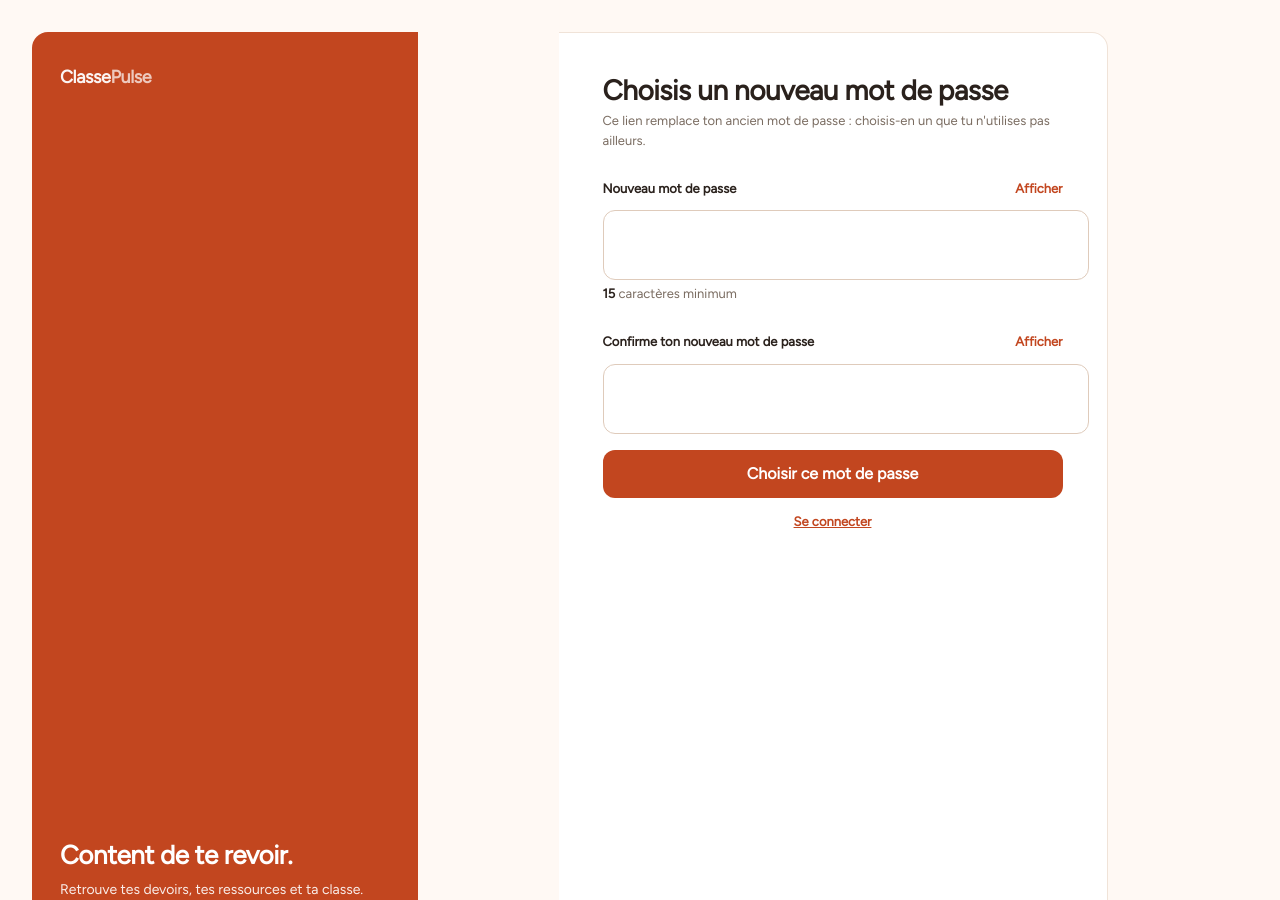
réinitialisation du mot de passe (§ 3.2) › refuse un mot de passe trop court avant tout envoi
The image size is (1280, 900).
Type "court" into the password field labelled "Nouveau mot de passe".
click(846, 245); type("court")  # box [602,210,1088,280]
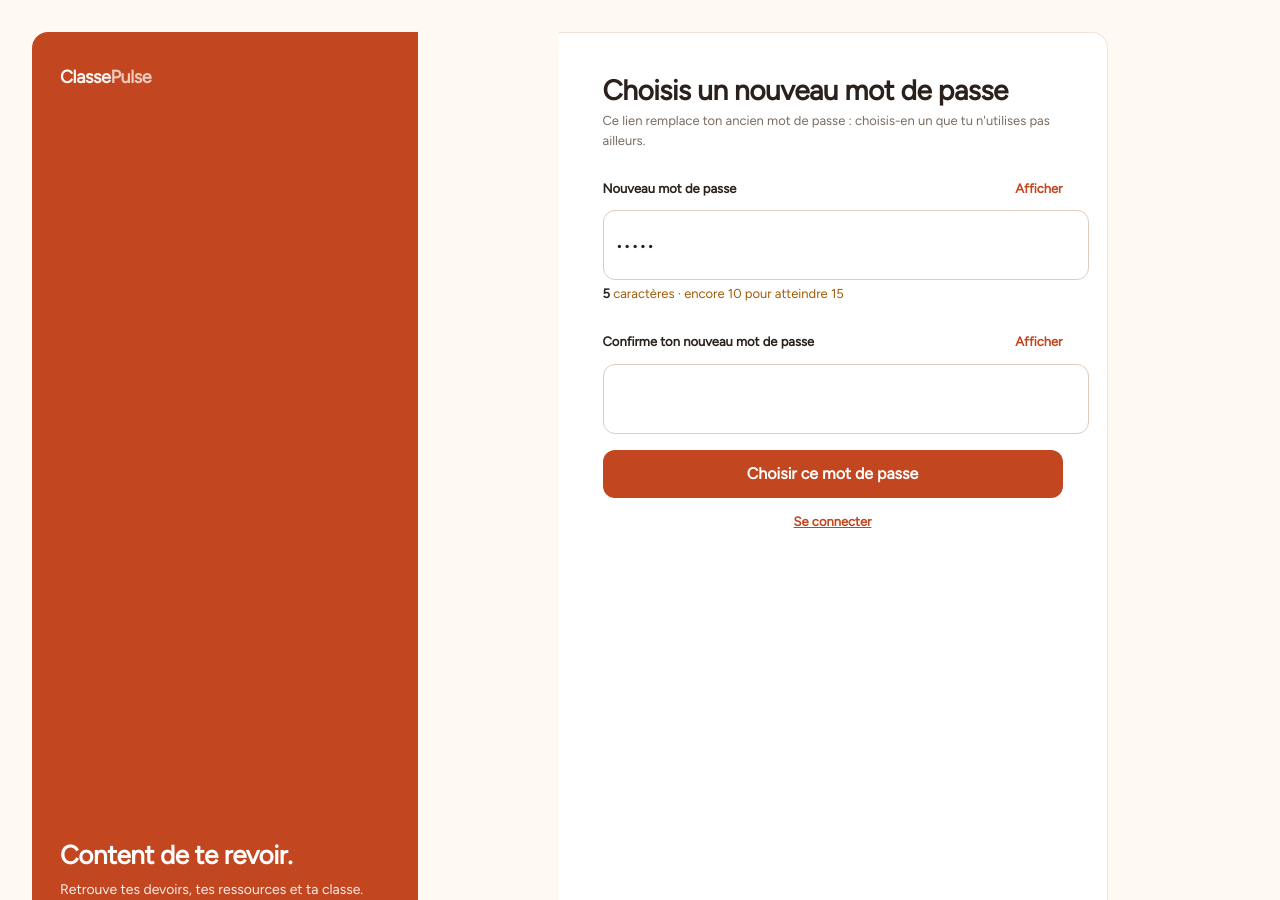
Type "court" into the password field labelled "Confirme ton nouveau mot de passe".
click(846, 398); type("court")  # box [602,364,1088,434]
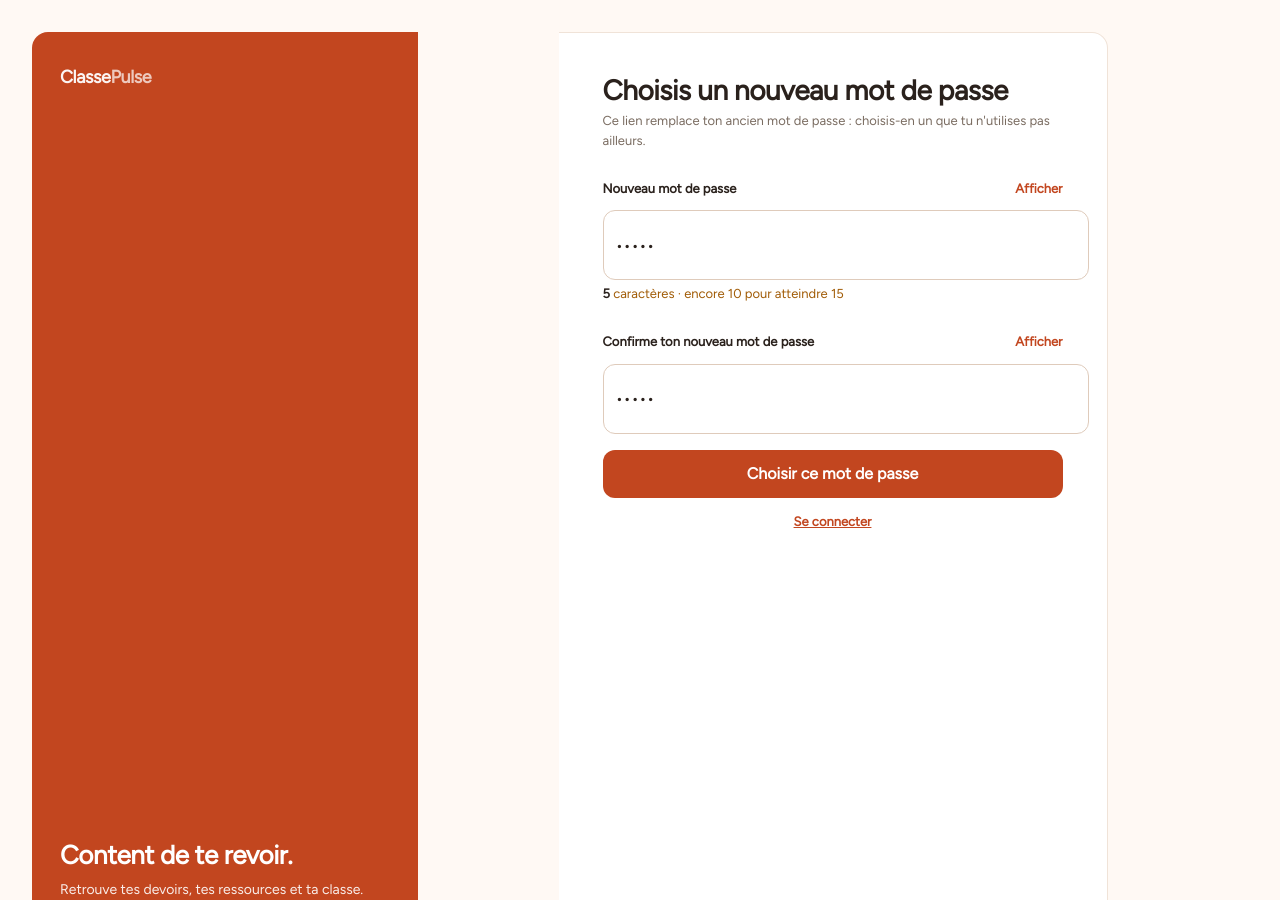
Click the button "Choisir ce mot de passe".
click(832, 474)  # box [602,450,1062,498]
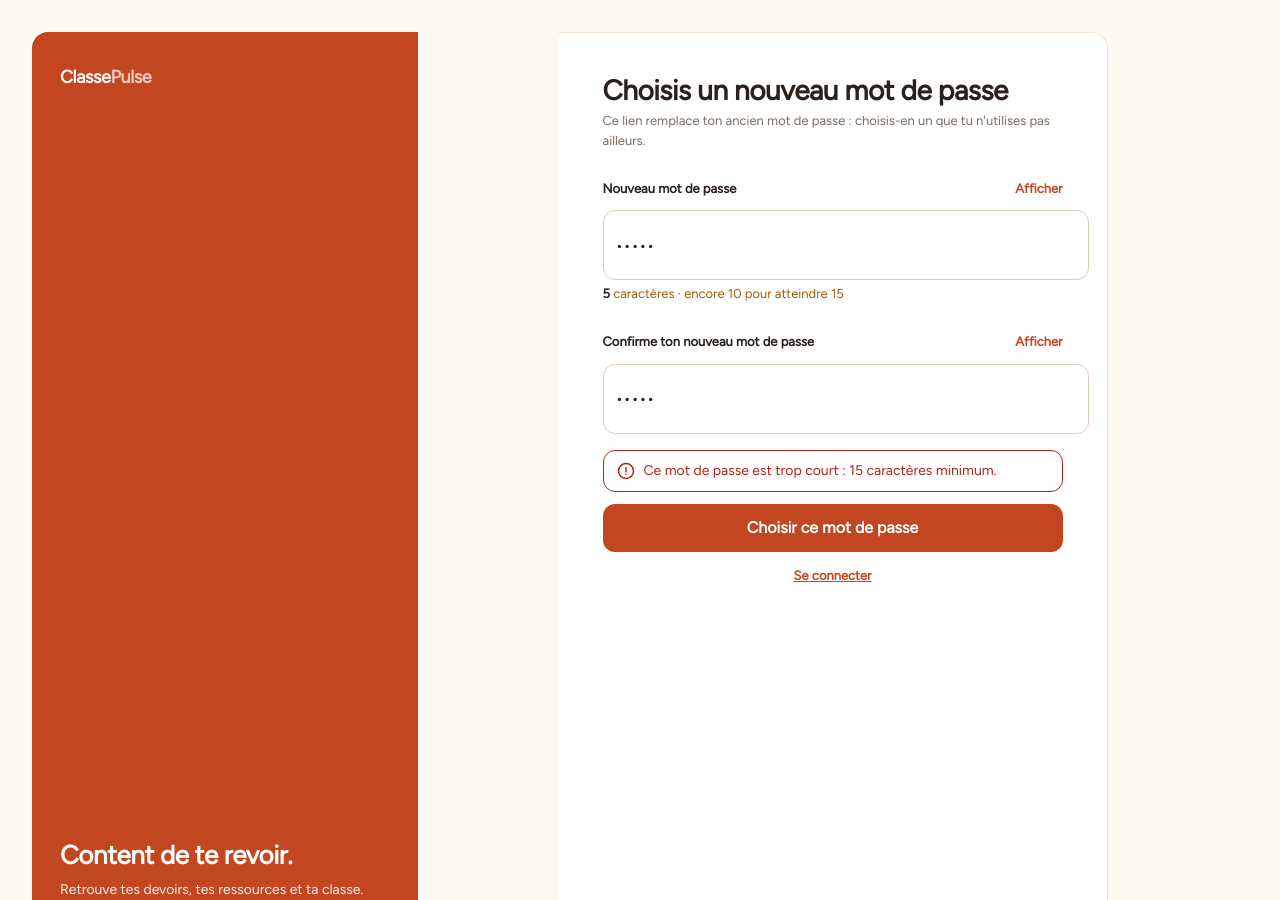
Expected: the text "Ce mot de passe est trop court : 15 caractères minimum." is shown, [644,460,997,480]
